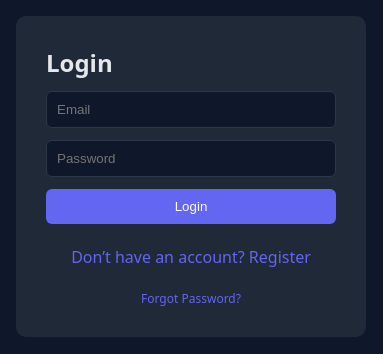
App Component › Navigation from Login to Register › should navigate to register page when register link is clicked
Click the text "Don’t have an account? Register". click: (191, 256)
box: [71,246,311,268]
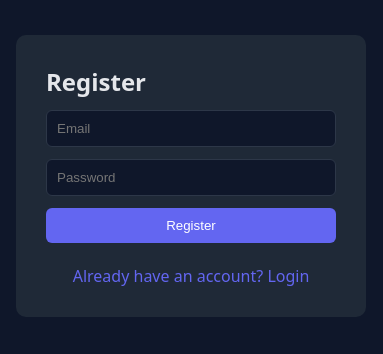
Now the heading "Register" is shown, box [46,65,146,98]
